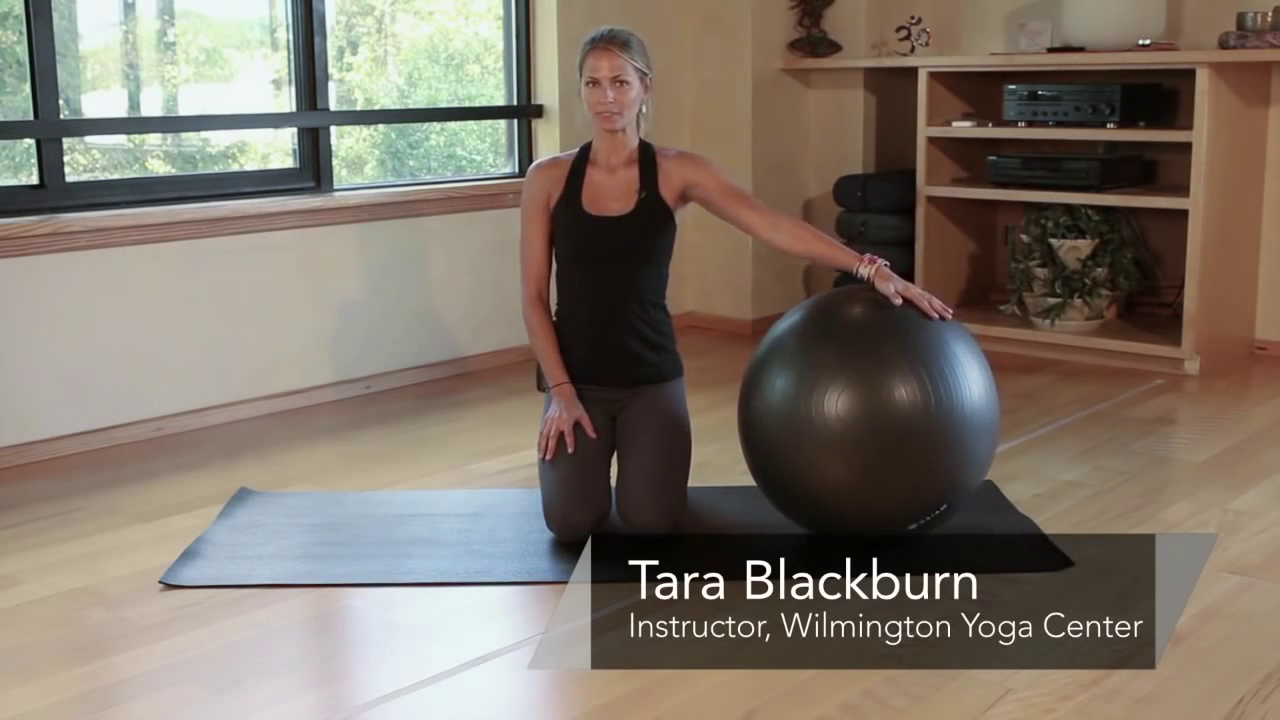yogaball: (734, 281, 1017, 550)
